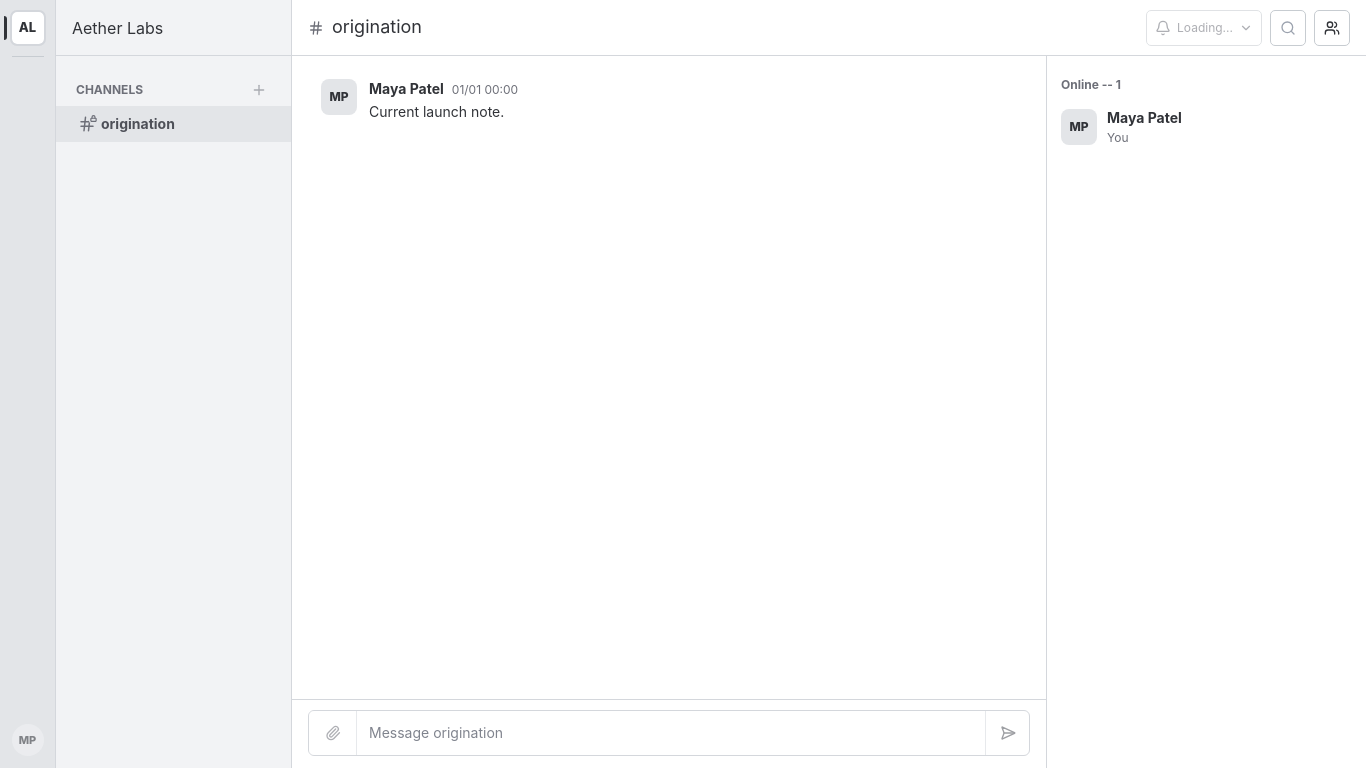
Test: WorkspaceChat › searches beyond loaded messages and focuses an older channel result
Click the button named "Show search" at [1288, 28], box [1270, 10, 1306, 46]
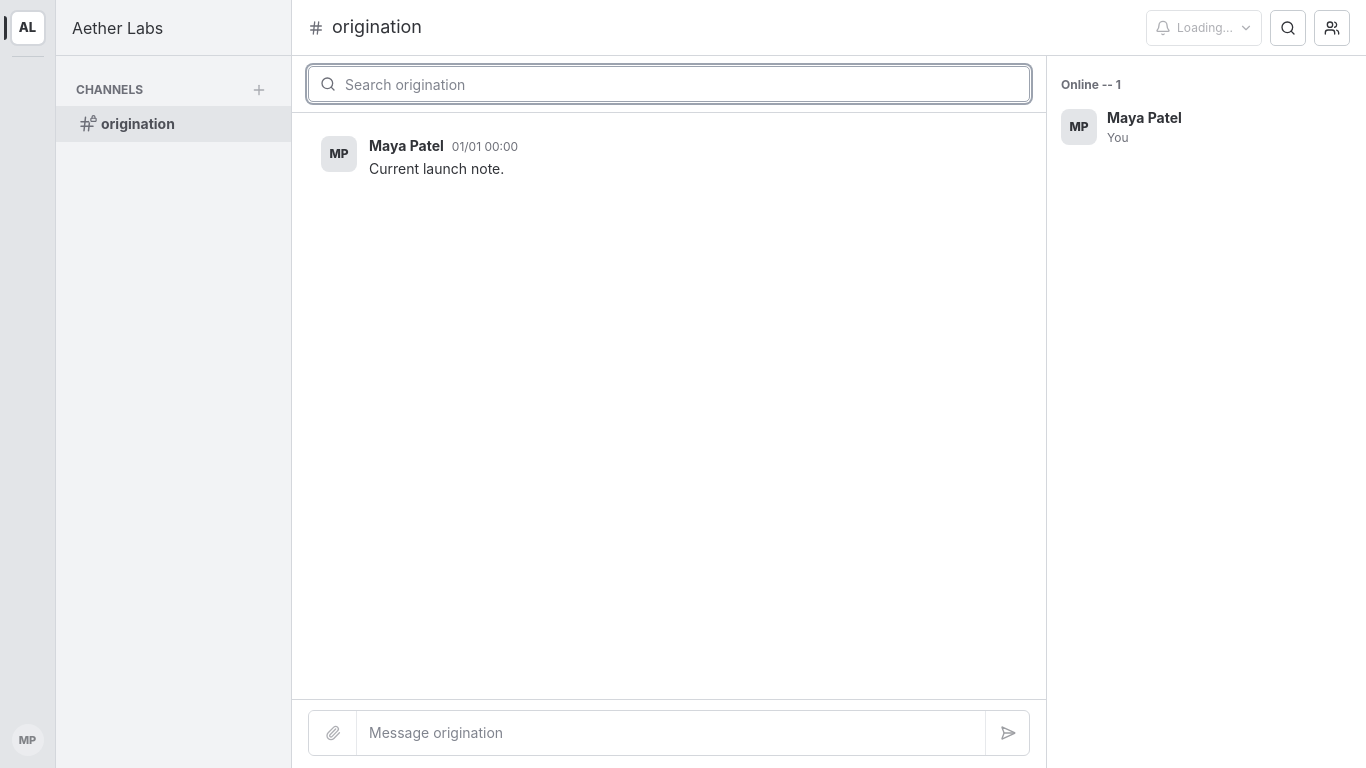
Type "archive" into the dropdown with placeholder "Search origination" at [669, 84], box [308, 66, 1030, 102]
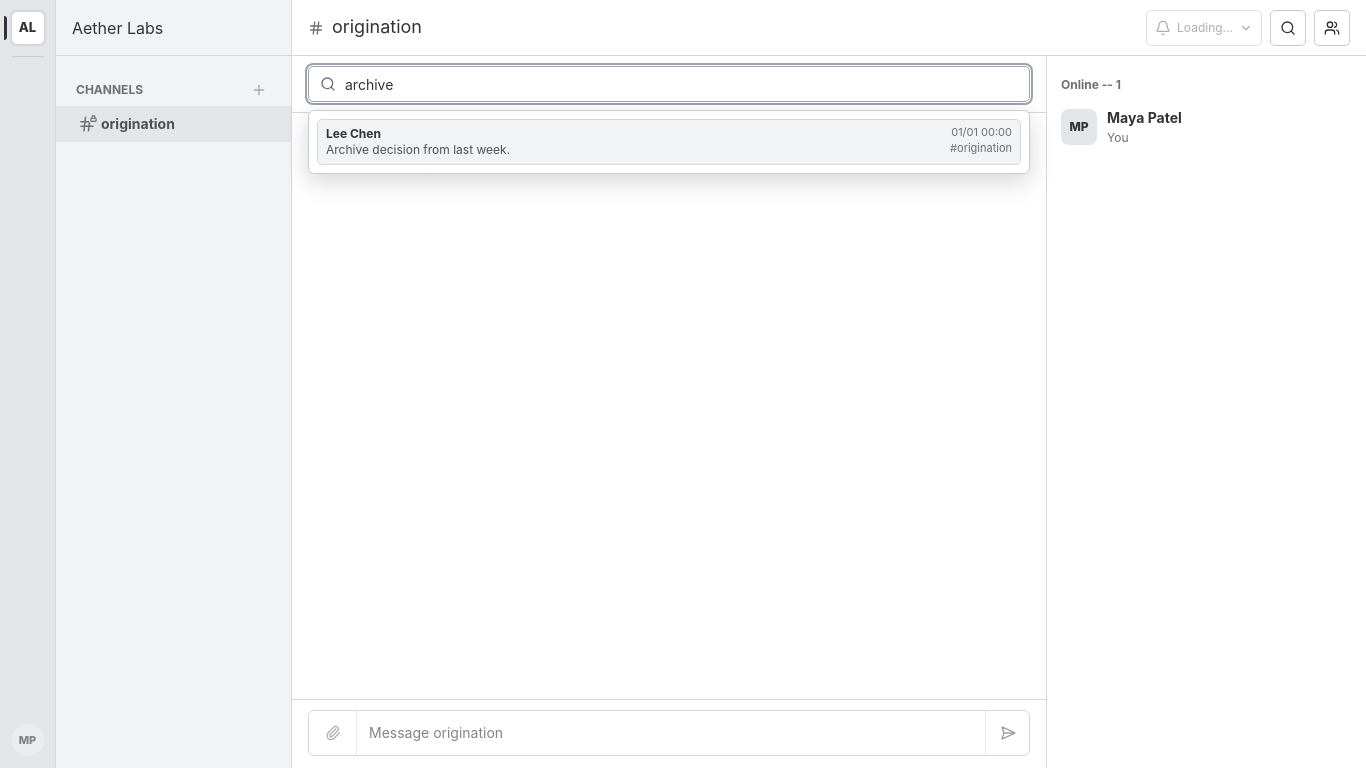
Click the option "Archive decision from last week" at [353, 134], box [317, 119, 1021, 165]
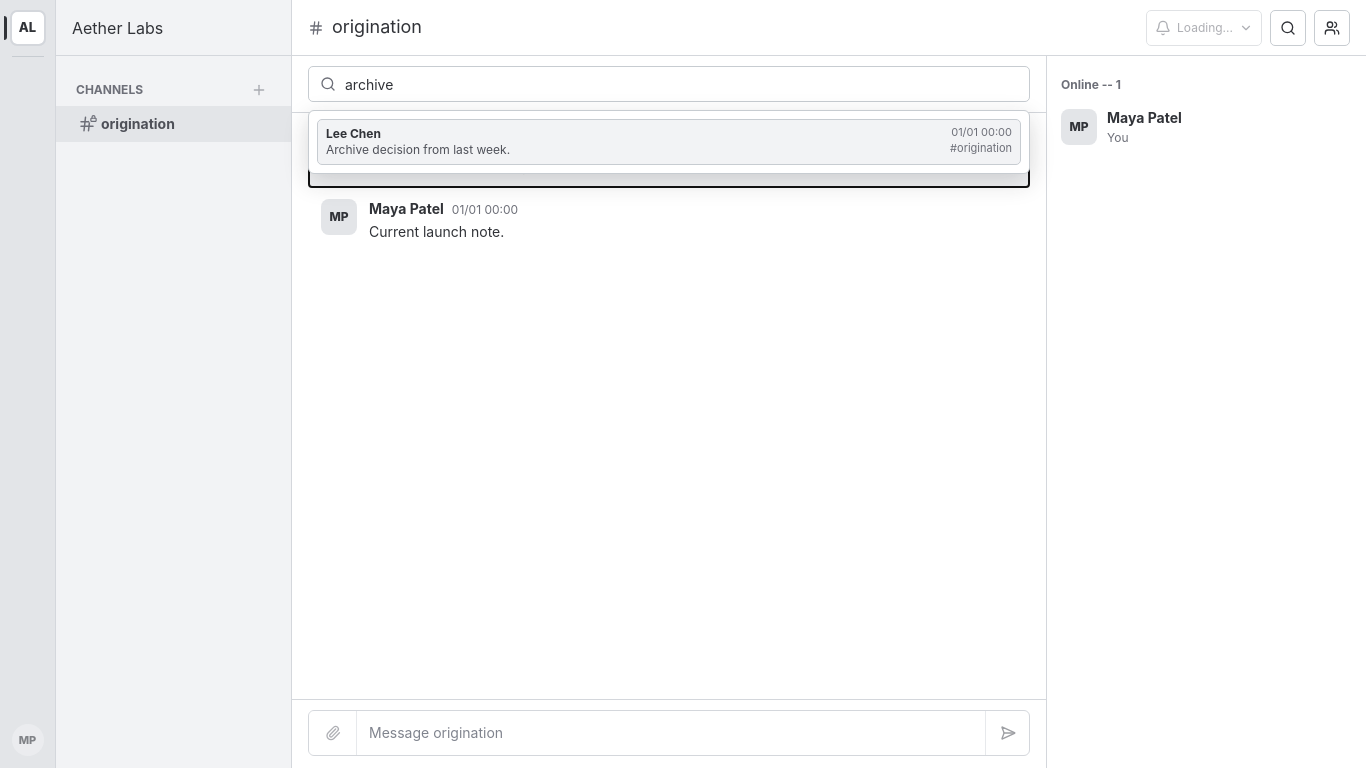
Check: the text "Archive decision from last week." is shown 2 times, box [369, 160, 584, 177]; [326, 142, 510, 157]
